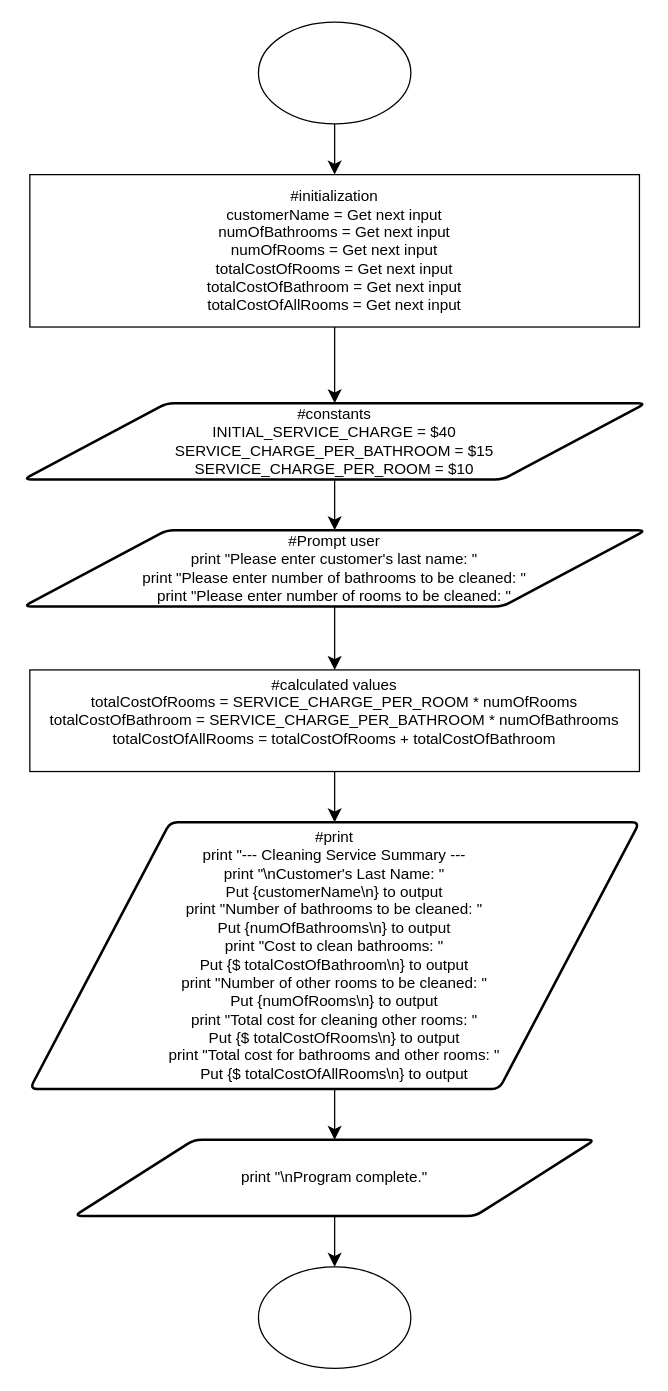
Some shapes in this 668 by 1391 pixel diagram are drawn without their labels. Here are the shapes that lost their labels. From the top down, the centre of each, then its label:
At point (334, 72): "start".
At point (334, 1317): "end".
